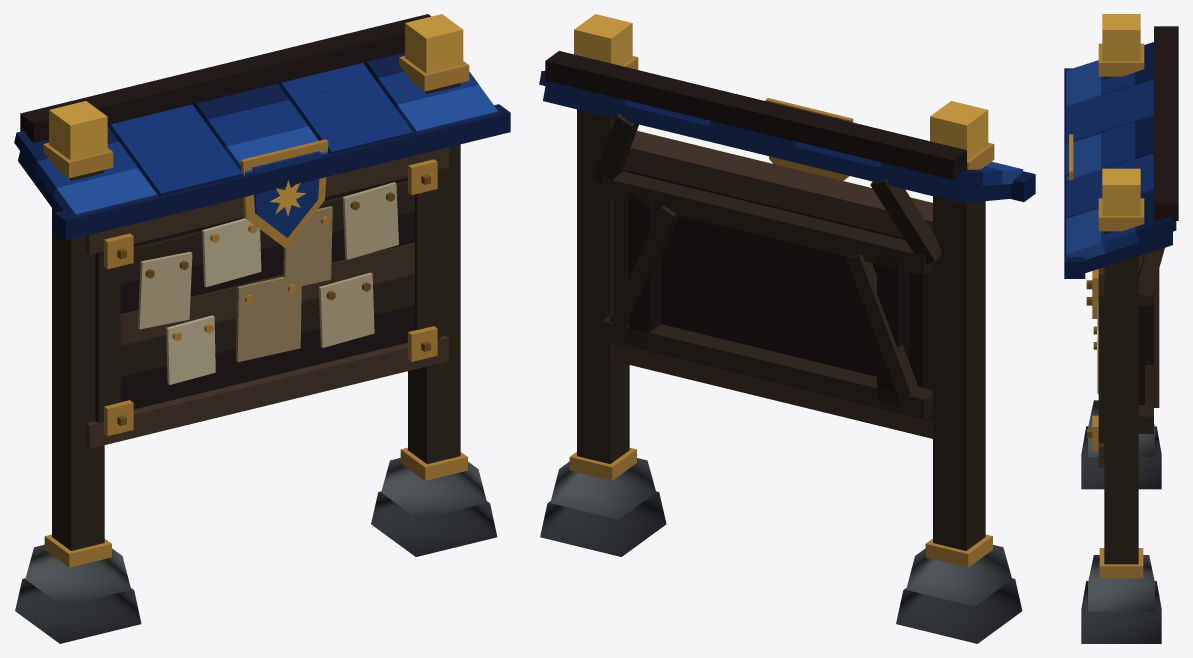
File: eastbrook_noticeboard.glb
3 renders of one model, left to right at view 1: azimuth 30°, elevation 25°; view 2: azimuth 150°, elevation 25°; view 3: azimuth 270°, elevation 25°, orthographic. The views are drawn at different scales.
Parts seen in each view (by area): view 1: NoticeboardSurface, NoticeboardHardware; view 2: NoticeboardSurface, NoticeboardHardware; view 3: NoticeboardSurface, NoticeboardHardware.
Boxes of the visible parts, x1,y1,x2,y2 form: NoticeboardSurface: [14, 14, 510, 643]; NoticeboardHardware: [43, 14, 469, 567]; NoticeboardSurface: [539, 51, 1035, 643]; NoticeboardHardware: [569, 14, 994, 567]; NoticeboardSurface: [1064, 26, 1178, 643]; NoticeboardHardware: [1069, 14, 1144, 578].
Bounding box in the file's own units: 2.4 × 2.6 × 0.6.
